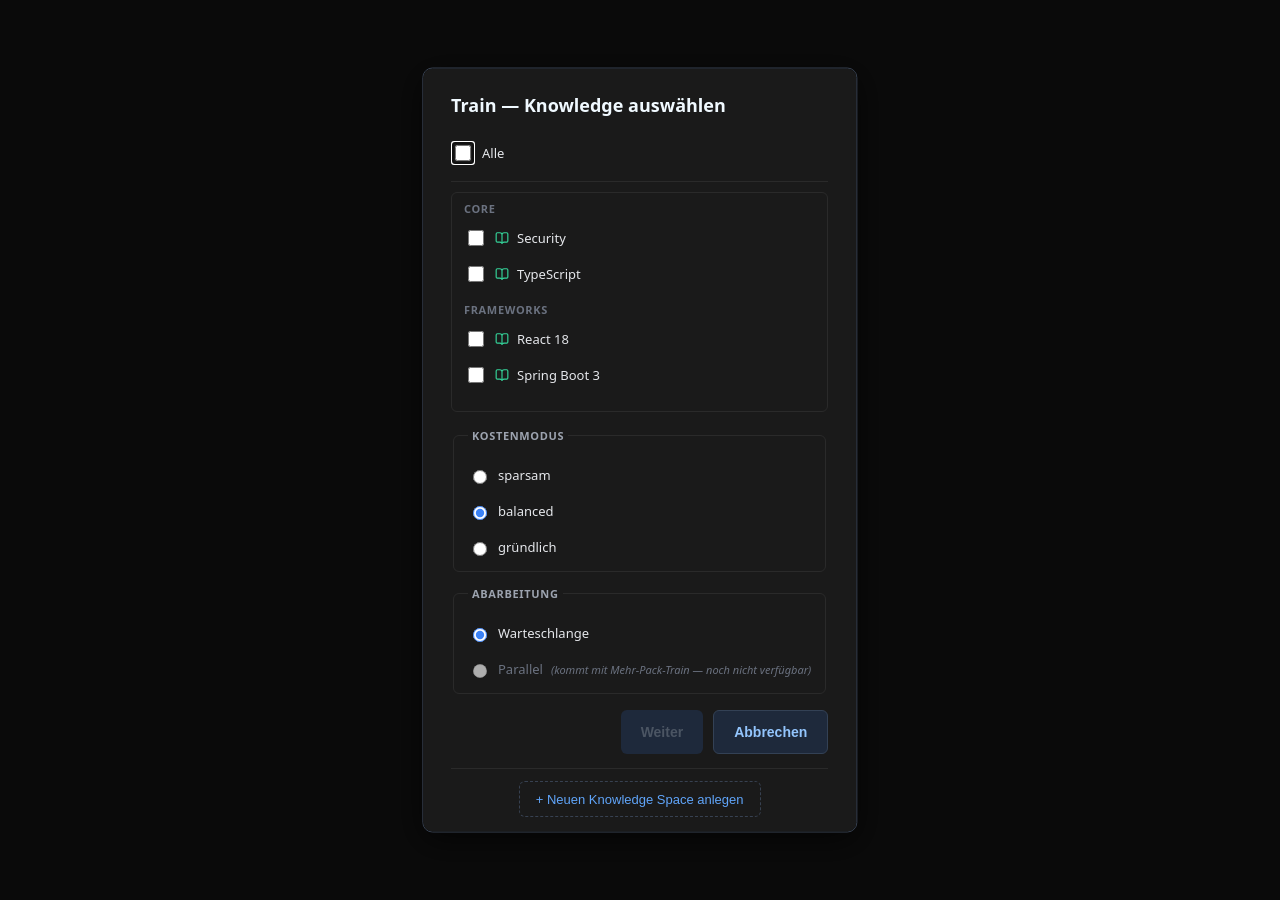
Test: TrainDialog — AC3: „Alle"-Master-Checkbox › „Alle" abwählen → keiner angewählt
Note: Zuerst alle auswählen
Click the checkbox with test id "check-all": {"x": 463, "y": 152} [455, 144, 471, 160]
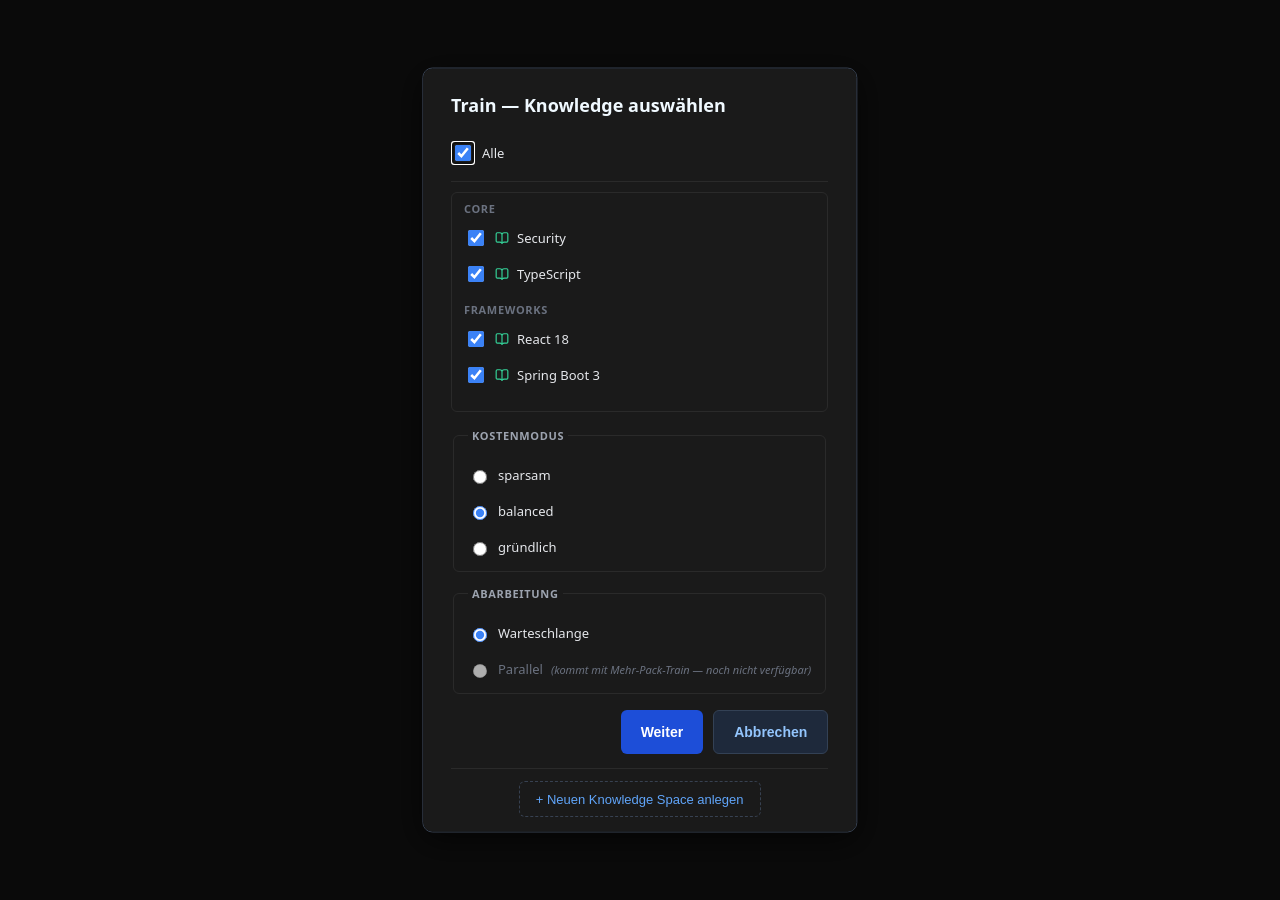
Note: Dann abwählen
Click the checkbox with test id "check-all": {"x": 463, "y": 152} [455, 144, 471, 160]
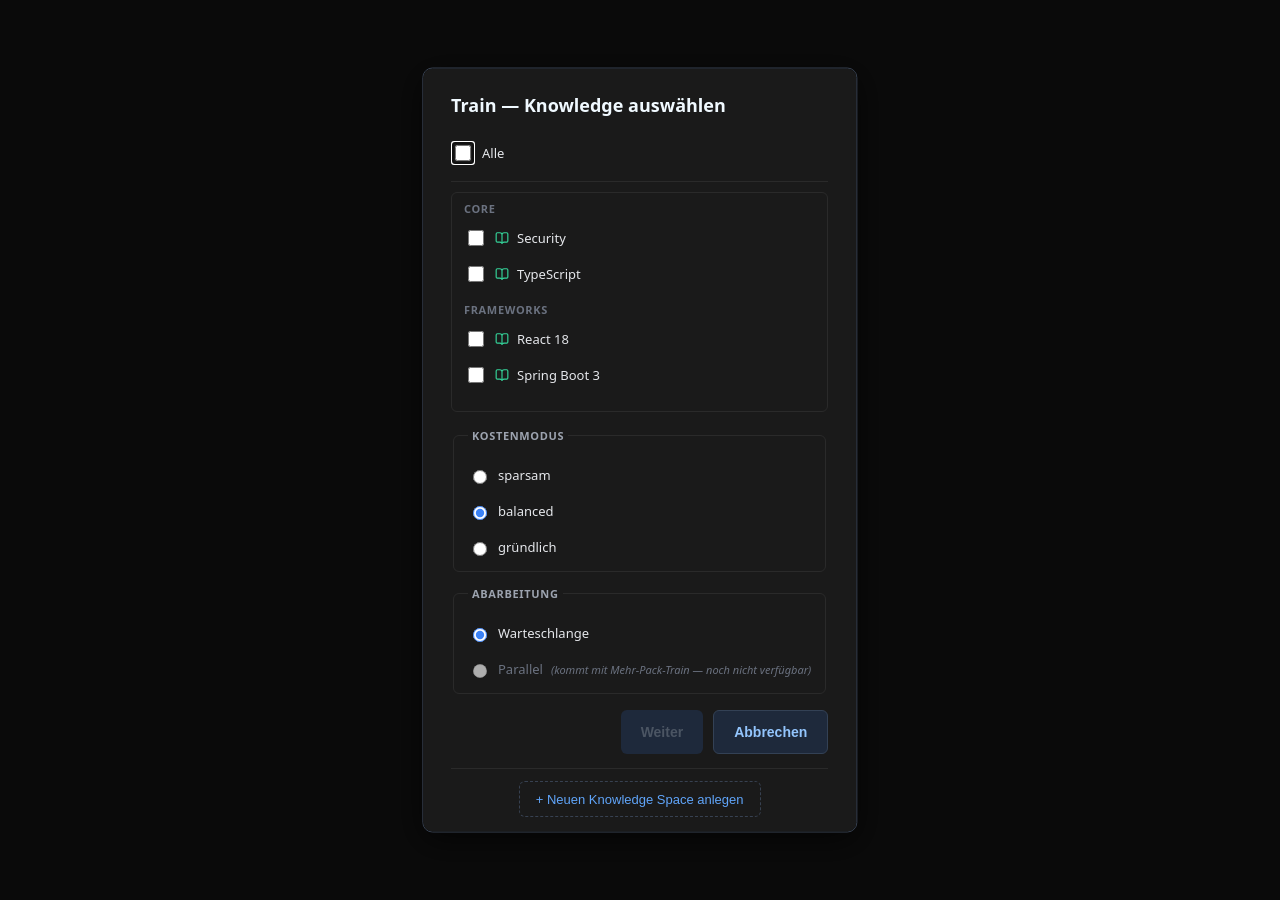
Check: the checkbox with test id "check-security" is not checked, box [468, 230, 484, 246]
Check: the checkbox with test id "check-typescript" is not checked, box [468, 266, 484, 282]
